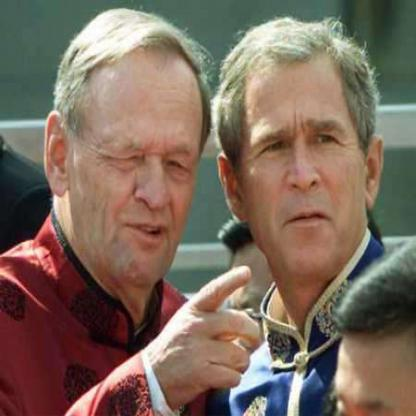face: (69, 26, 216, 288), (233, 23, 369, 277)
